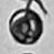correct: (8, 4, 48, 46)
